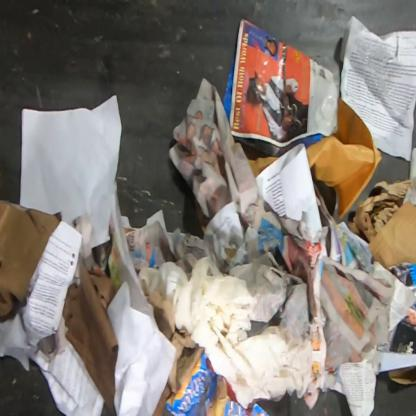cardboard: (62, 260, 120, 415), (0, 200, 63, 317), (367, 186, 416, 270)
soft_plastic: (165, 353, 272, 415)
